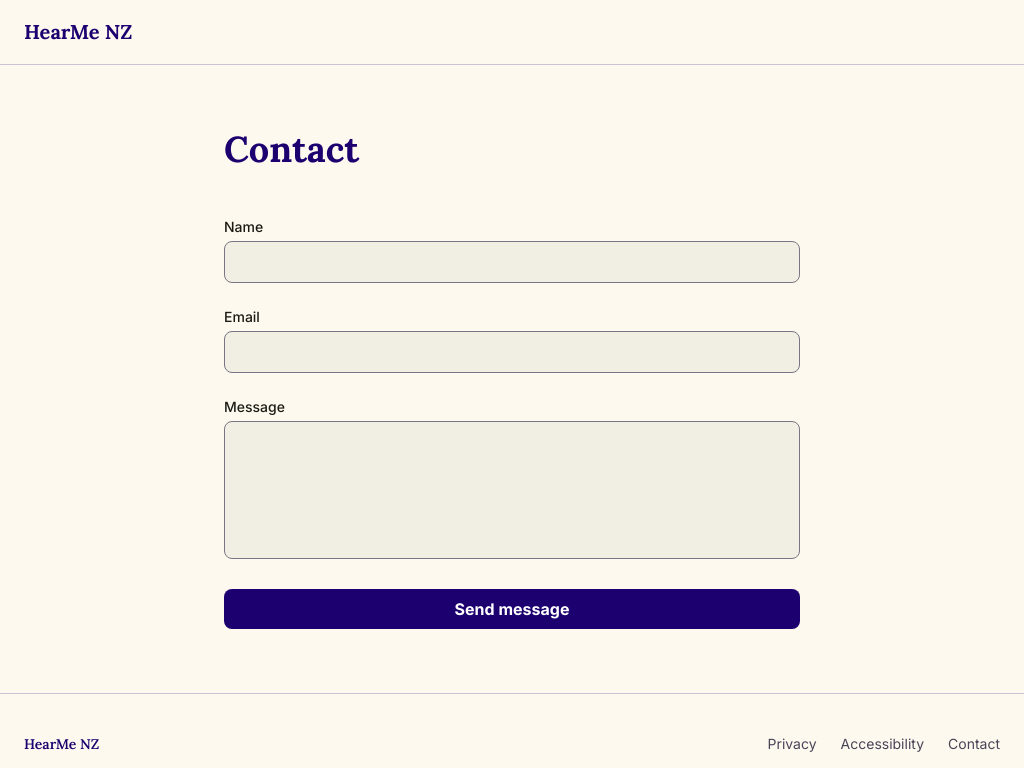
Test: ContactPage › shows error message when send fails
The width and height of the screenshot is (1024, 768).
Type "Alice" into the field labelled "Name".
click(512, 262); type("Alice")  # box top-left (224, 241), bottom-right (800, 283)
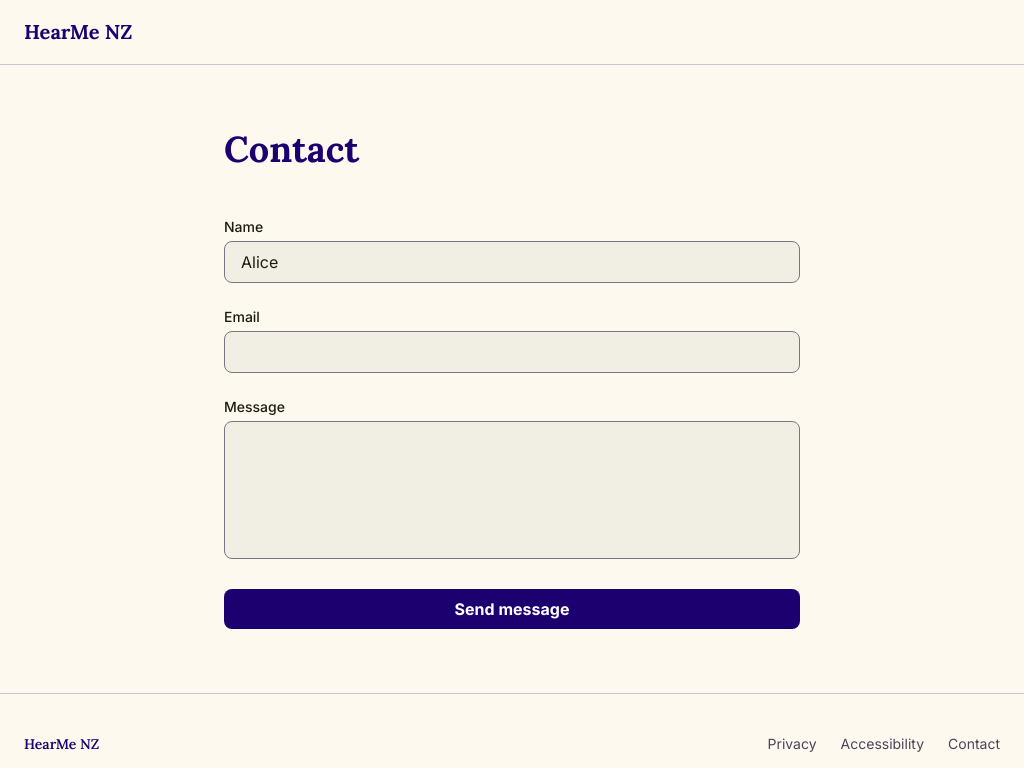
Type "alice@example.com" into the field labelled "Email".
click(512, 352); type("alice@example.com")  # box top-left (224, 331), bottom-right (800, 373)
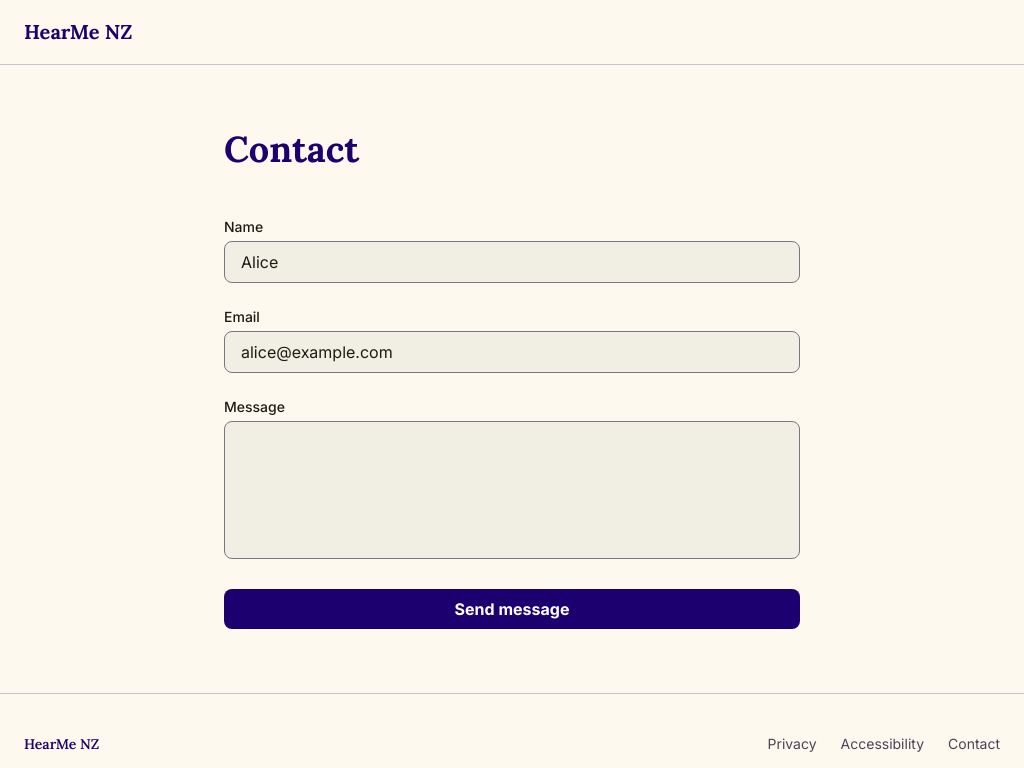
Type "Hello this is a long enough message" into the text box labelled "Message".
click(512, 490); type("Hello this is a long enough message")  # box top-left (224, 421), bottom-right (800, 559)
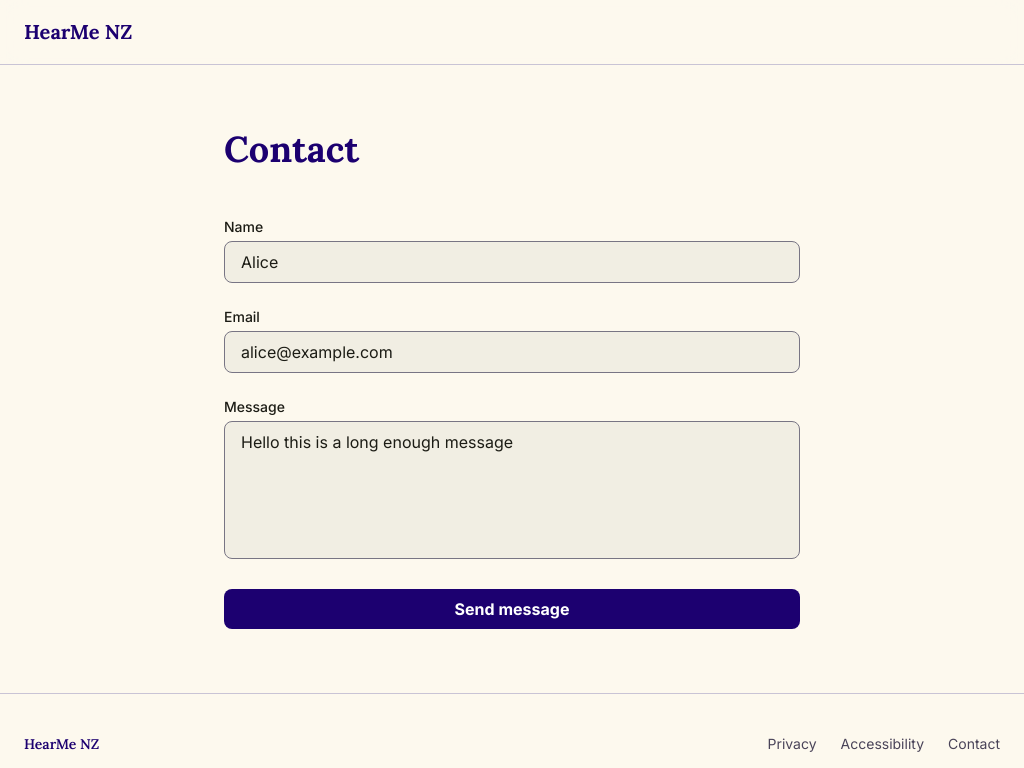
Click the button "Send message".
click(512, 609)  # box top-left (224, 589), bottom-right (800, 629)
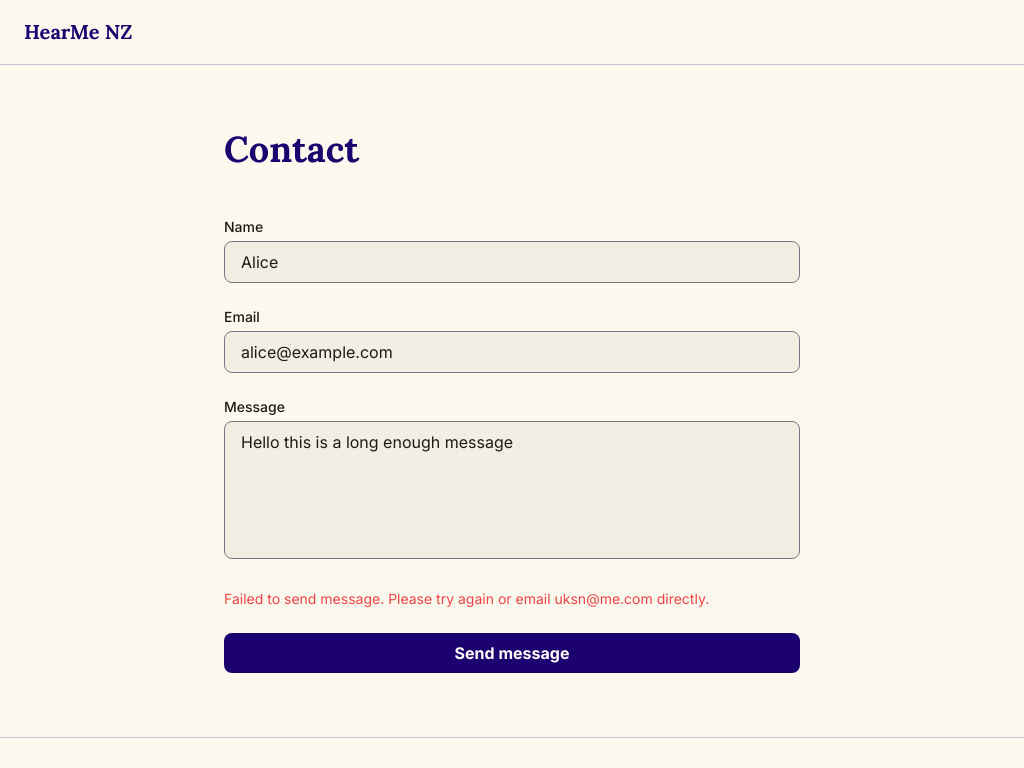
Check: the text "Failed to send message. Please try again or email uksn@me.com directly." is shown, box top-left (224, 590), bottom-right (709, 607)
